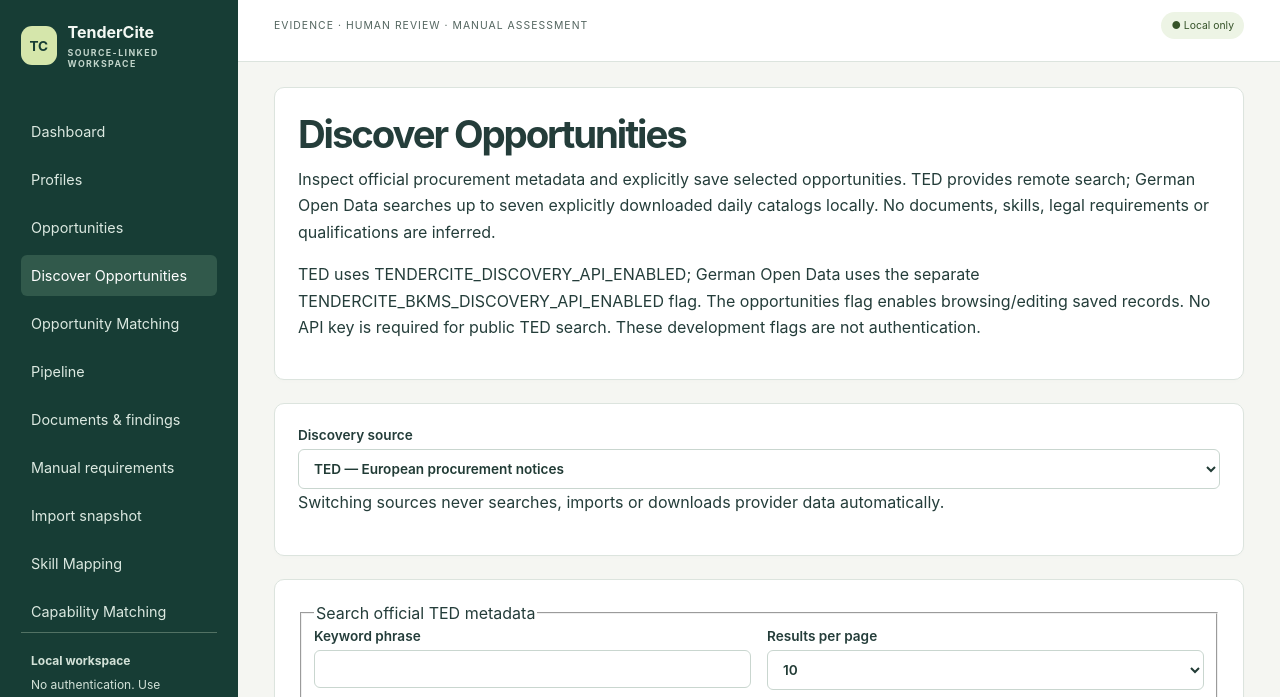
Test: already-present result does not overwrite edited opportunity
The width and height of the screenshot is (1280, 697).
Select "German Bekanntmachungsservice — public procurement" in the dropdown labelled "Discovery source": (759, 469) [298, 449, 1220, 489]
(page scrolled)
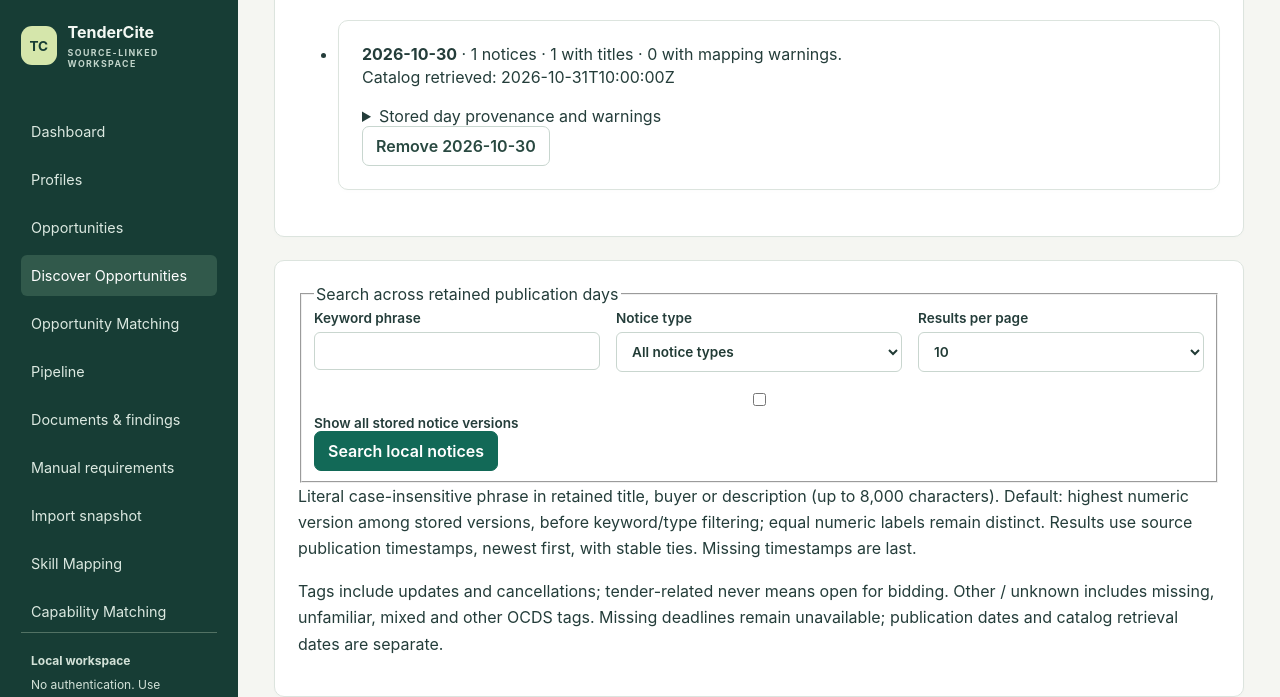
Expected: the button "Search local notices" is enabled, [314, 431, 498, 471]
In the field labelled "Keyword phrase": (457, 351) [314, 332, 600, 370], type "Software"
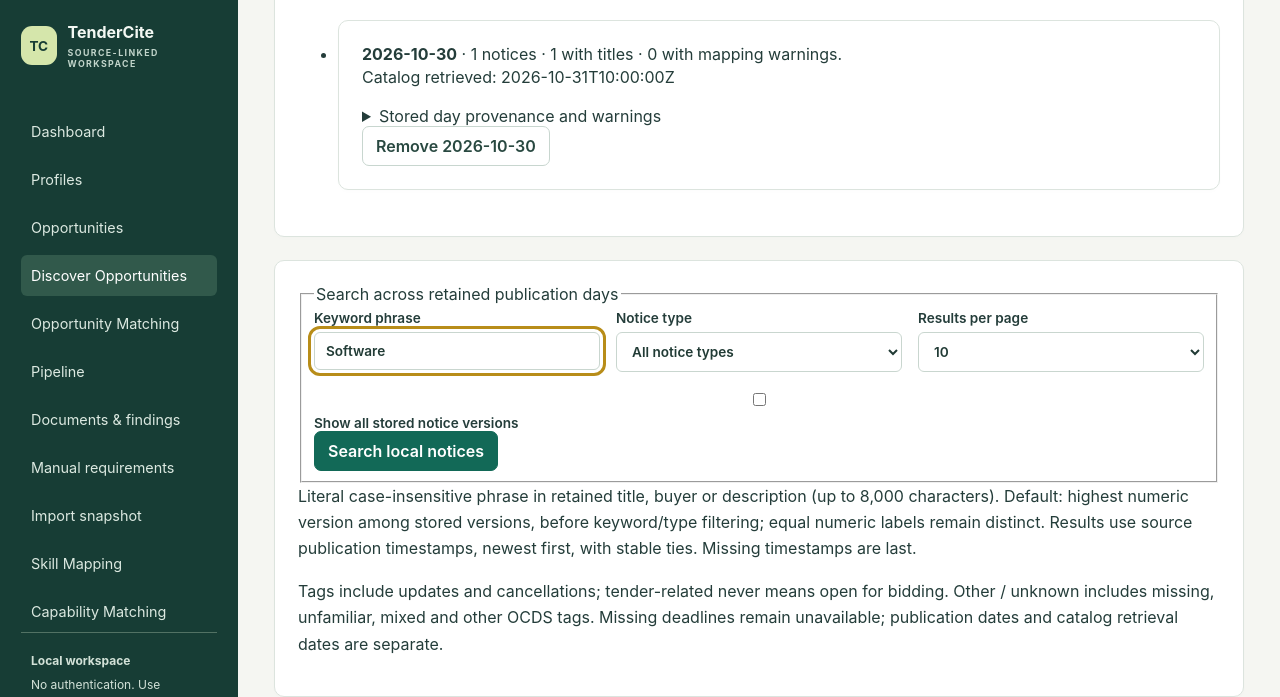
Click the button "Search local notices": (406, 451) [314, 431, 498, 471]
(page scrolled)
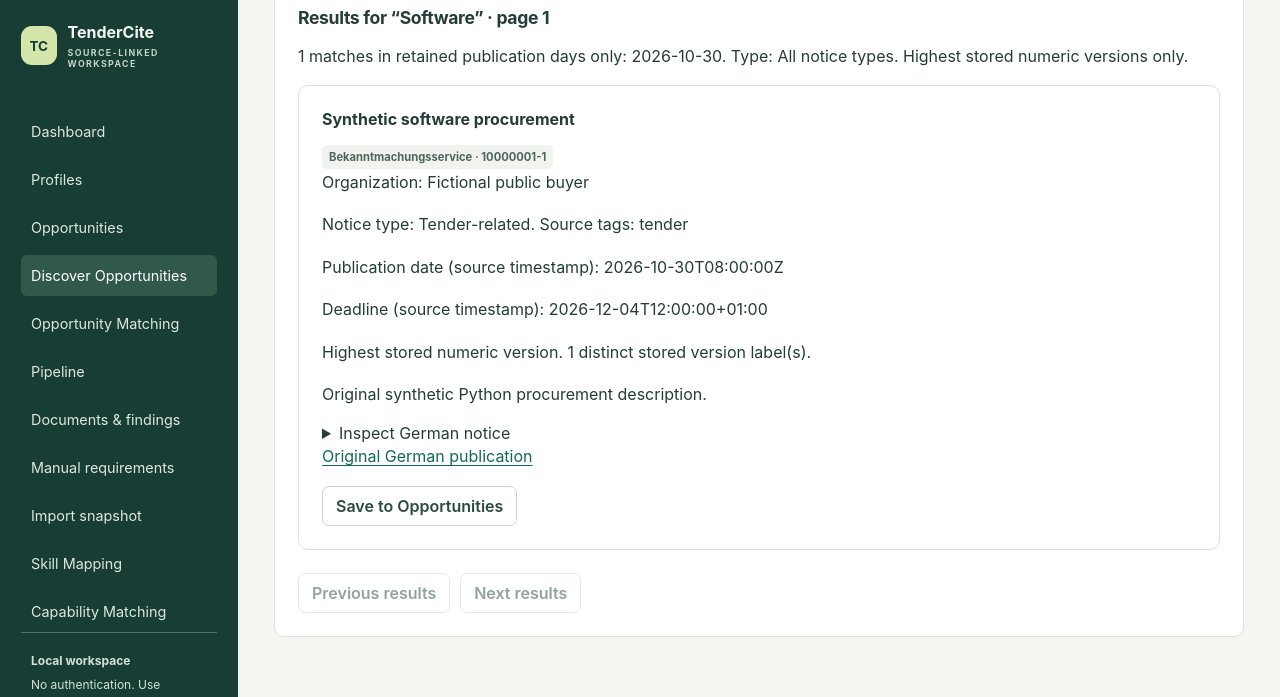
Expected: the heading "Synthetic software procurement" is shown, [322, 109, 575, 129]
Click the button "Save to Opportunities": (420, 506) [322, 486, 517, 526]
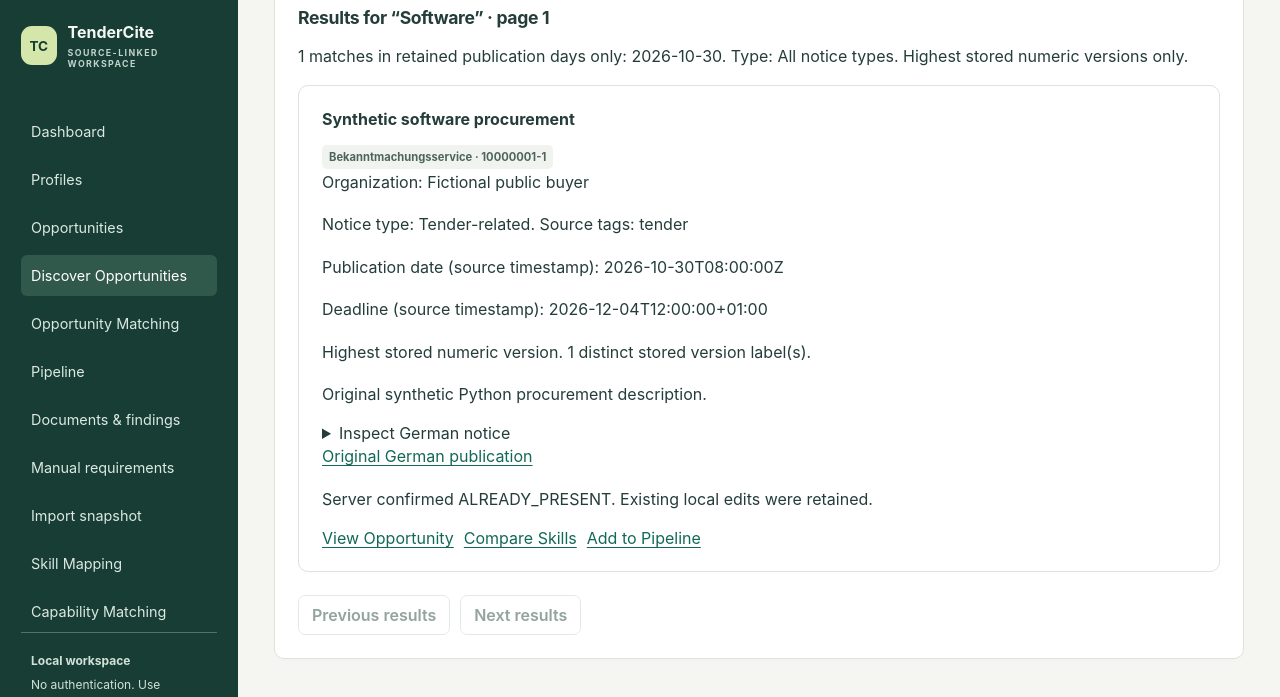
Expected: the text "Server confirmed ALREADY_PRESENT. Existing local edits were retained." is shown, [322, 489, 873, 509]
